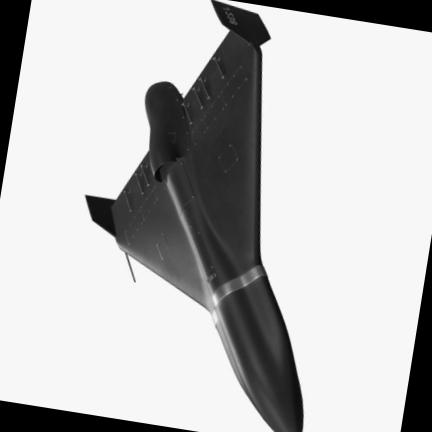Shahed: (86, 1, 303, 431)
